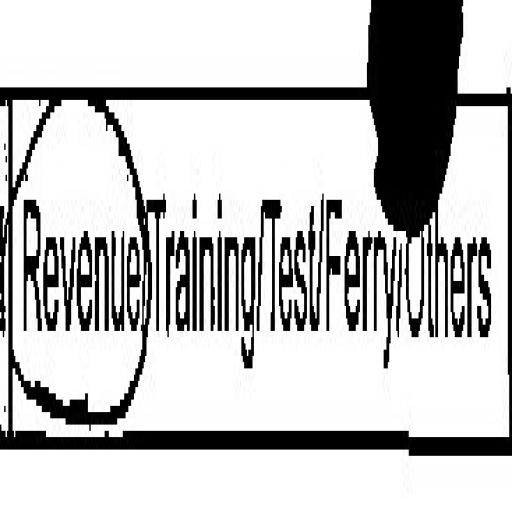check: (7, 6, 151, 512)
